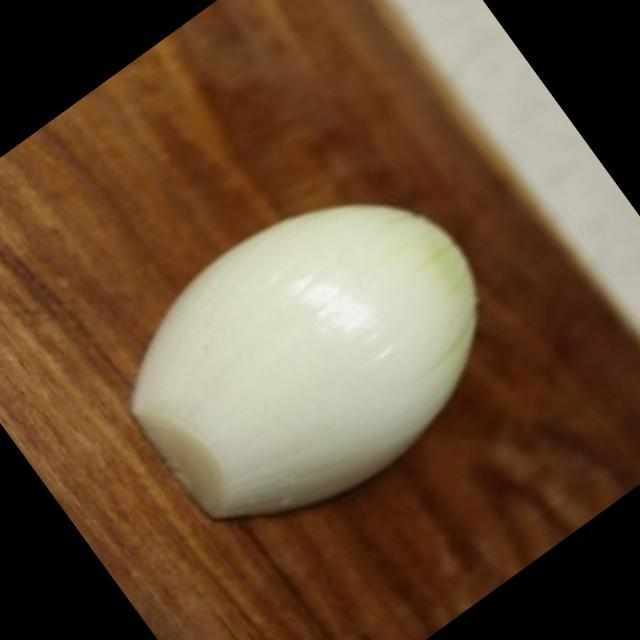Onion: (137, 205, 482, 521)
